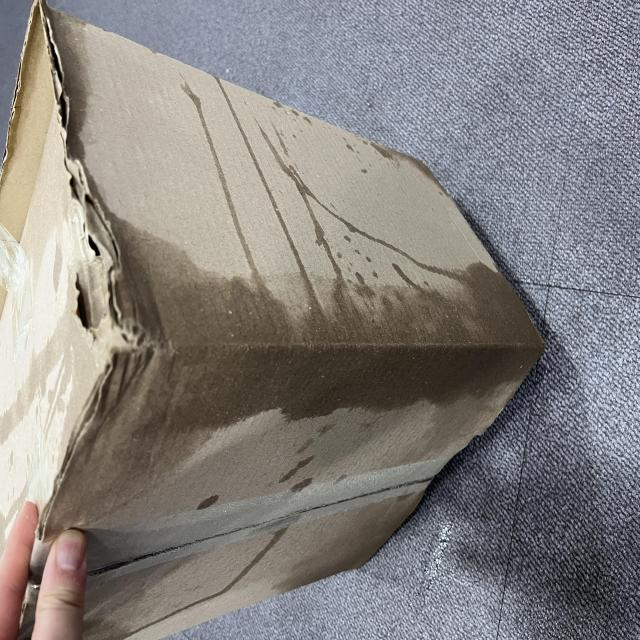wet: (60, 30, 311, 640)
